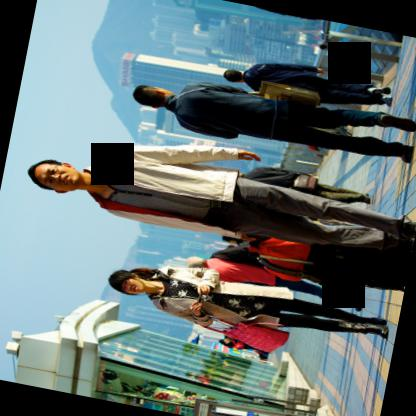backpack: (248, 238, 310, 270), (227, 339, 244, 349)
handbag: (202, 313, 290, 351), (294, 171, 322, 190)
suitcase: (305, 238, 411, 292)
